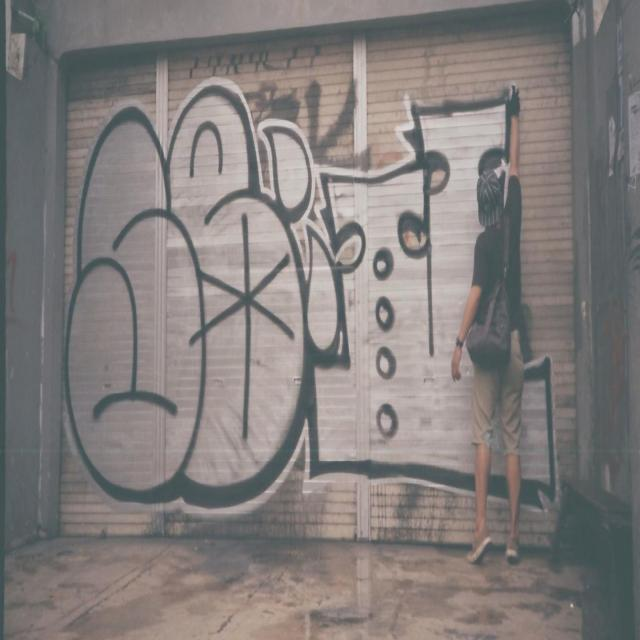nonspitting: (64, 78, 559, 512)
